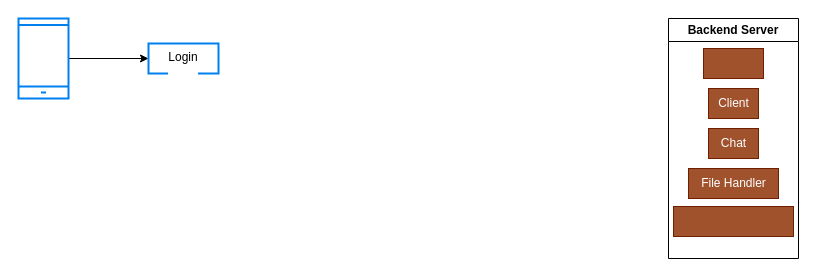
The diagram is 816 pixels wide and 276 high, and some of its shapes have lost their labels. The centre of each missing label's shape, as x and y in pixels:
"Admin" goes at pixel 733 63.
"Logs and A nalytics" goes at pixel 733 221.
